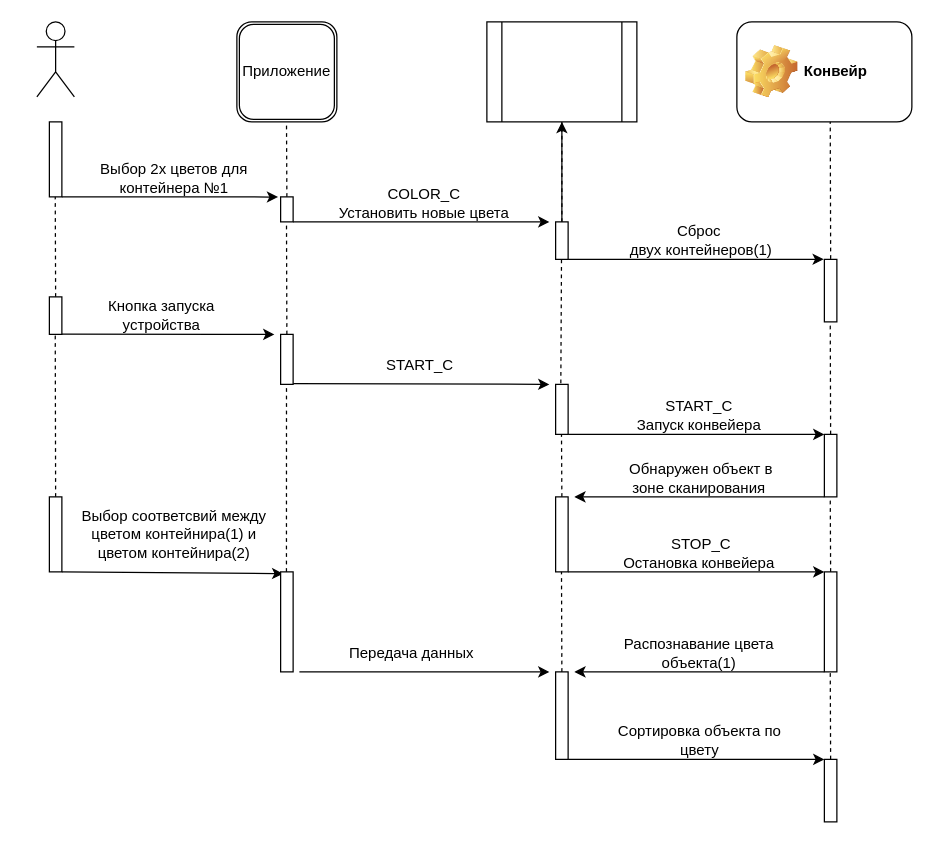
Image size: 934x844. Some labels were removed from this diagram. Here are the shapes that lost their labels. From the top down, the centre of each, then its label:
(x=55, y=59): Оператор
(x=561, y=71): Raspberry
